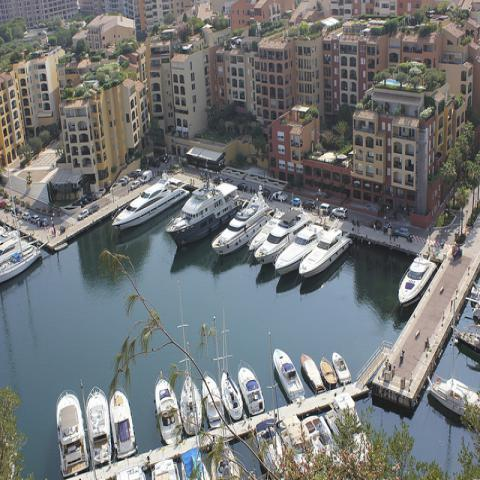car: (0, 159, 328, 228), (331, 206, 348, 220), (139, 169, 153, 184), (315, 203, 331, 214), (395, 227, 410, 238), (88, 202, 100, 215), (76, 208, 88, 221), (29, 214, 40, 225), (370, 220, 382, 230), (290, 197, 302, 207), (130, 180, 140, 191), (237, 182, 248, 192), (129, 170, 138, 180), (22, 212, 31, 220)
